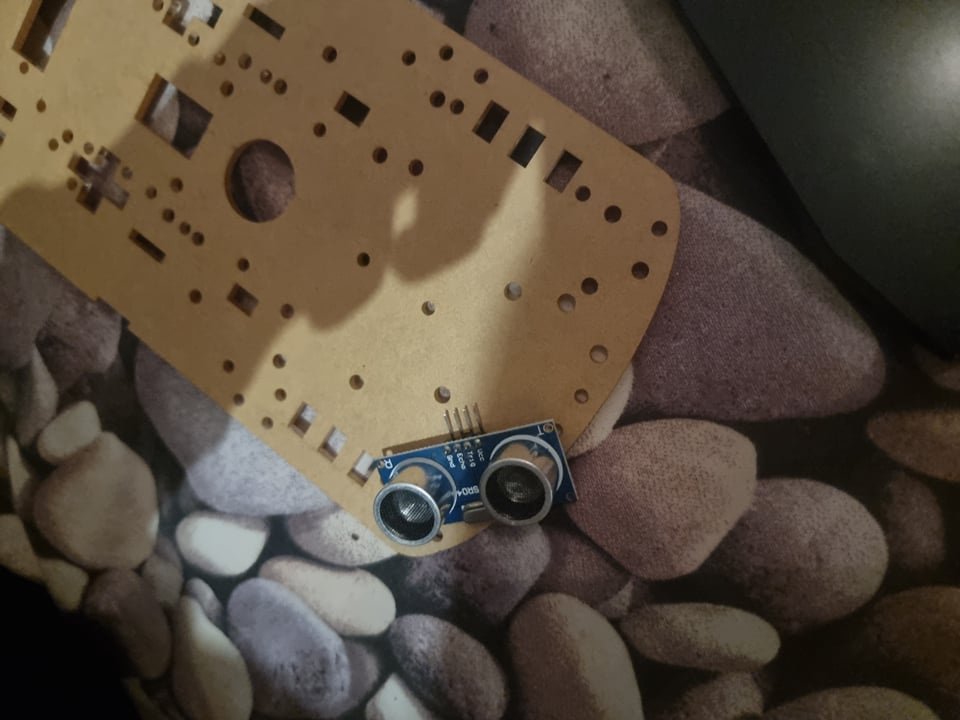SENSOR: (372, 420, 581, 548)
